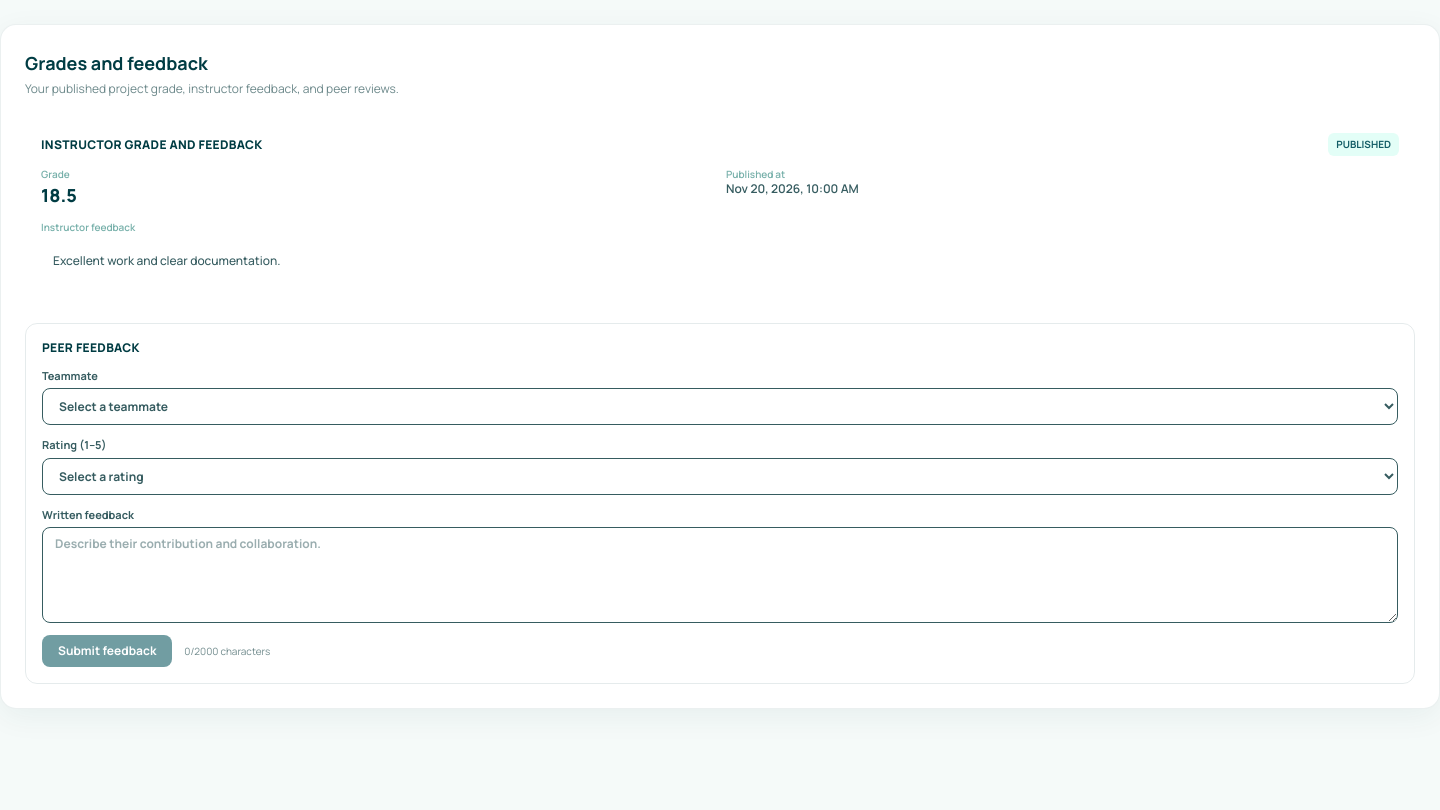
Test case: ProjectFeedbackPanel › shows validation errors returned by the backend
This screenshot has width=1440, height=810.
Step 1. Select "Carol Teammate" in the dropdown named "Teammate to review" → (720, 407), box top-left (42, 388), bottom-right (1398, 425)
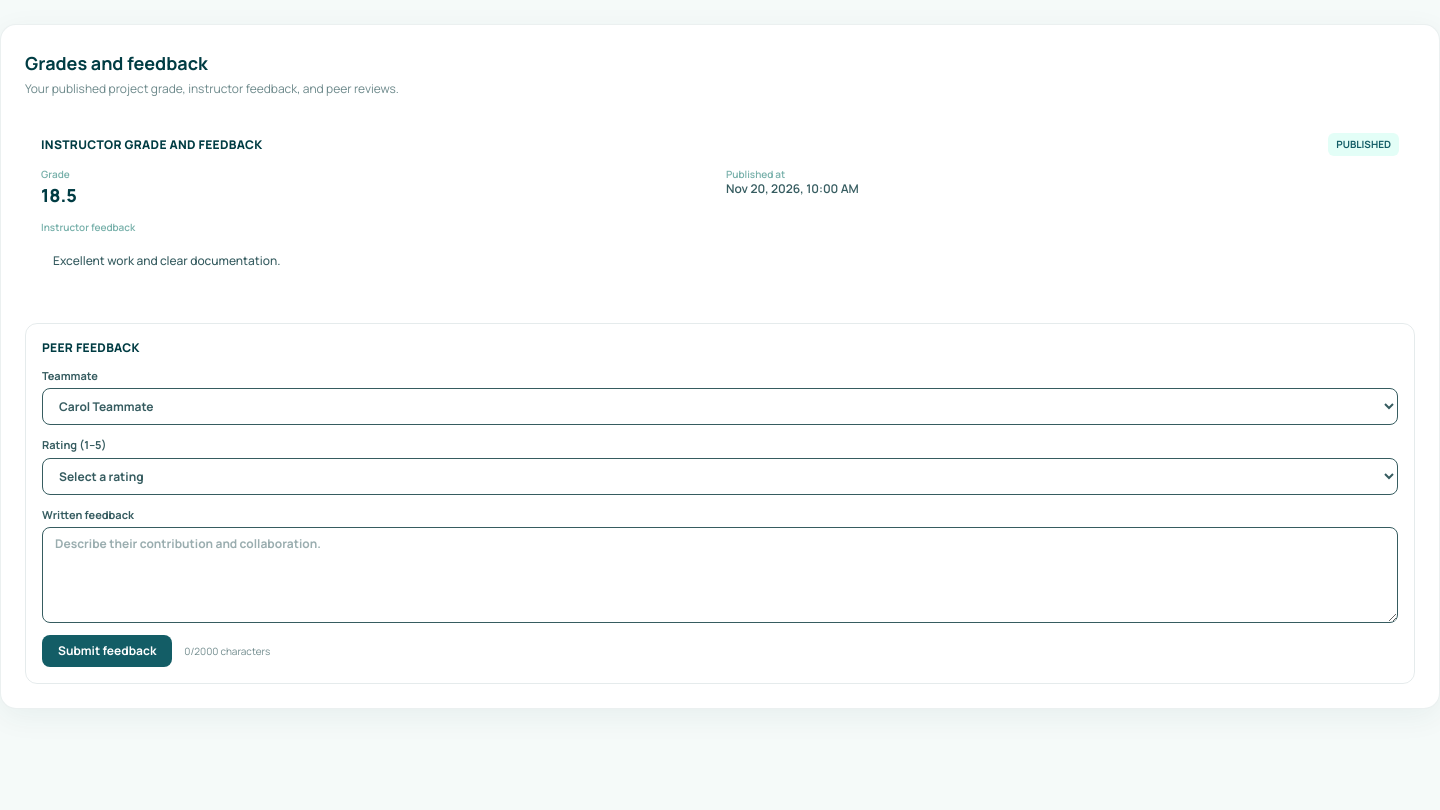
Step 2. Select "4" in the dropdown named "Peer rating" → (720, 476), box top-left (42, 458), bottom-right (1398, 495)
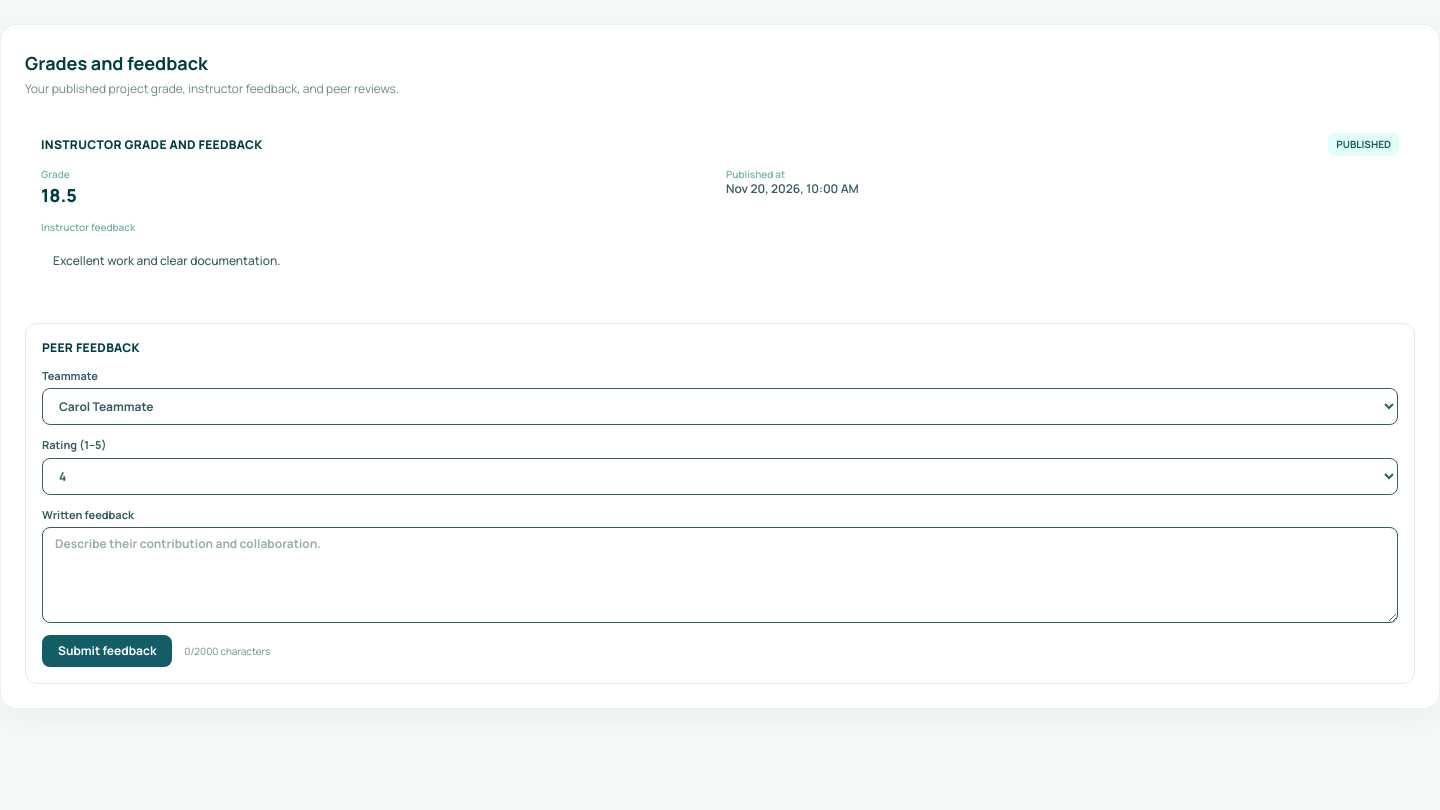
Step 3. Type "Useful review" into the text box named "Peer feedback comment" → (720, 575), box top-left (42, 527), bottom-right (1398, 623)
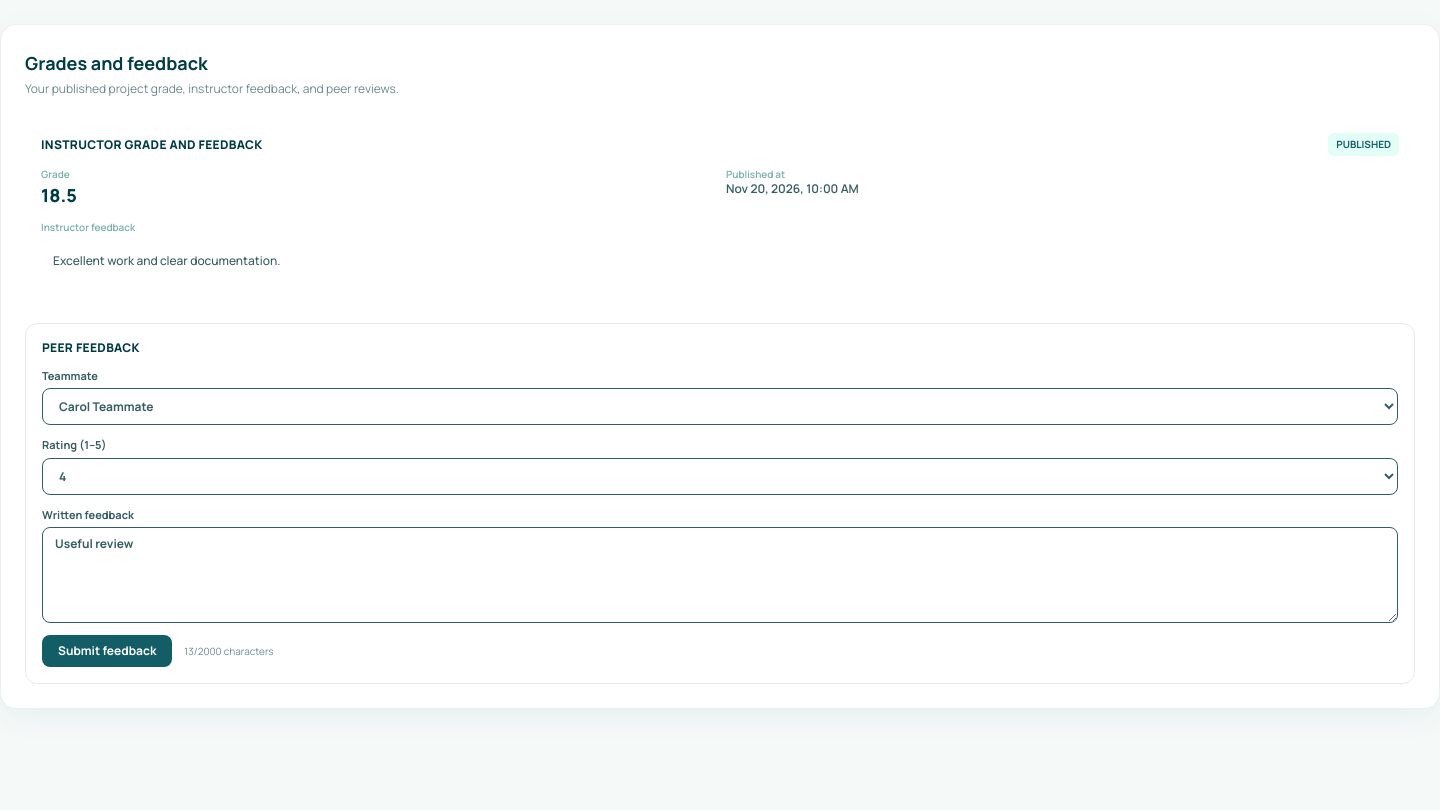
Step 4. Click the button "Submit feedback" → (107, 651), box top-left (42, 635), bottom-right (172, 667)
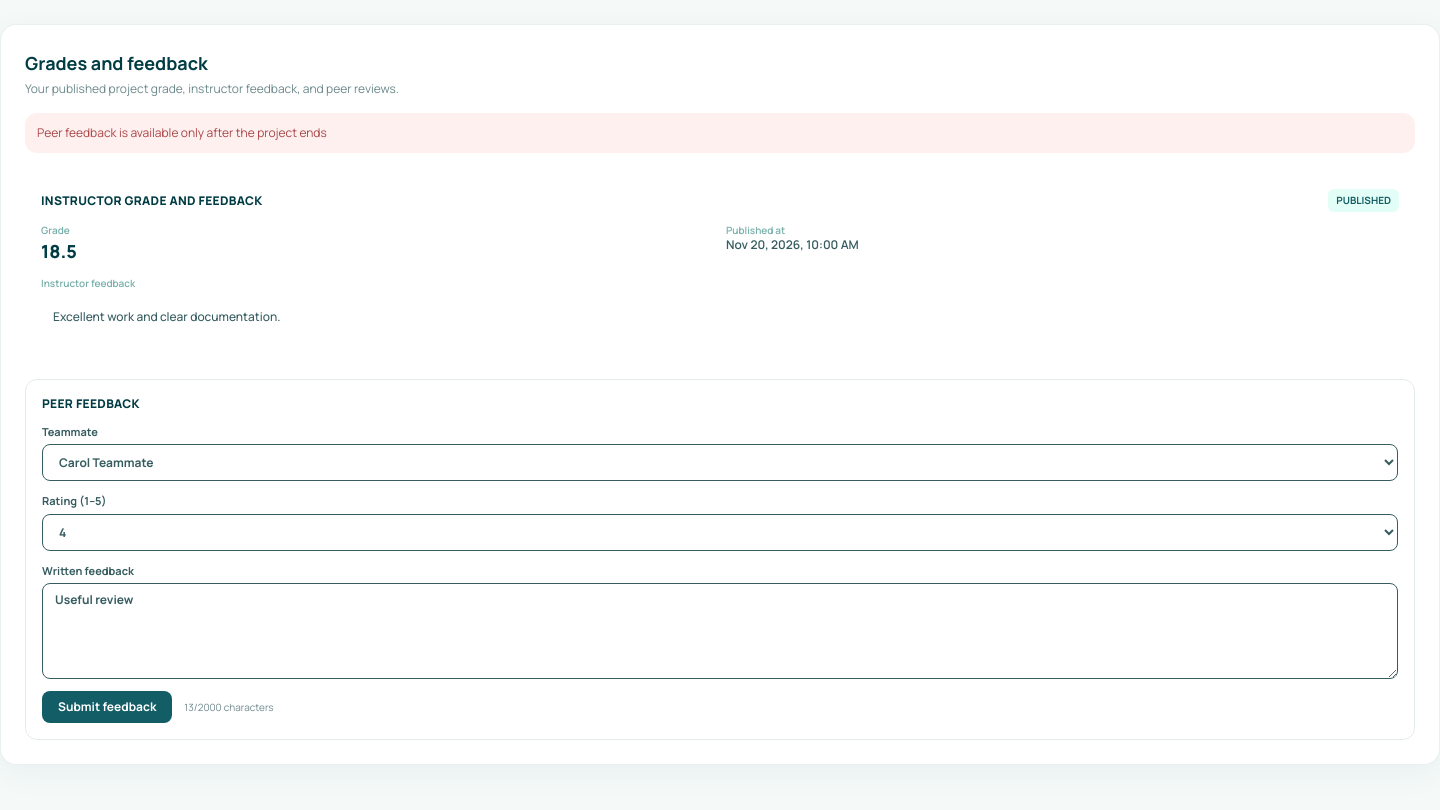
Now the text "Peer feedback is available only after the project ends" is shown, box top-left (25, 113), bottom-right (1415, 153)
